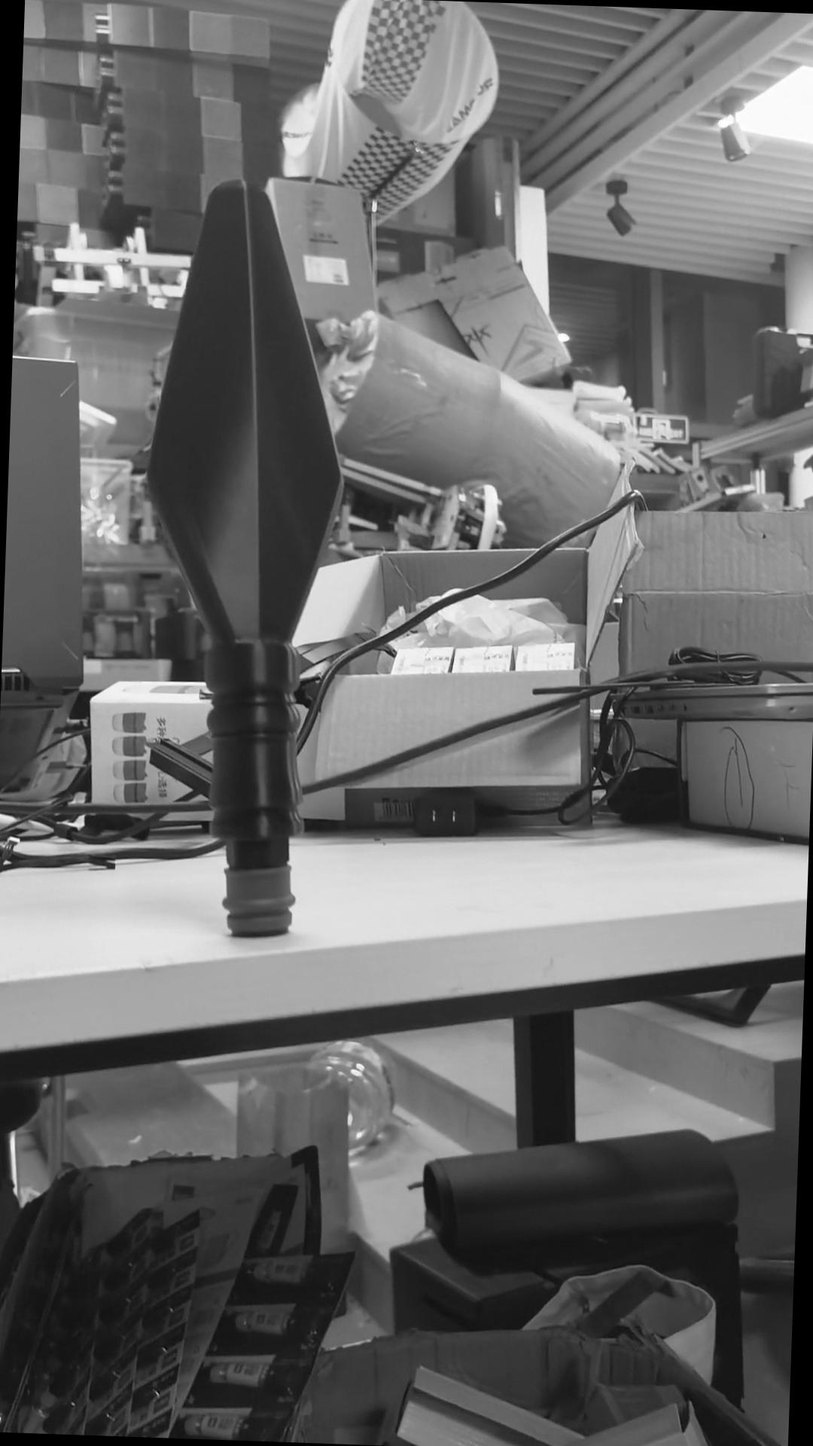base: (208, 865, 307, 959)
